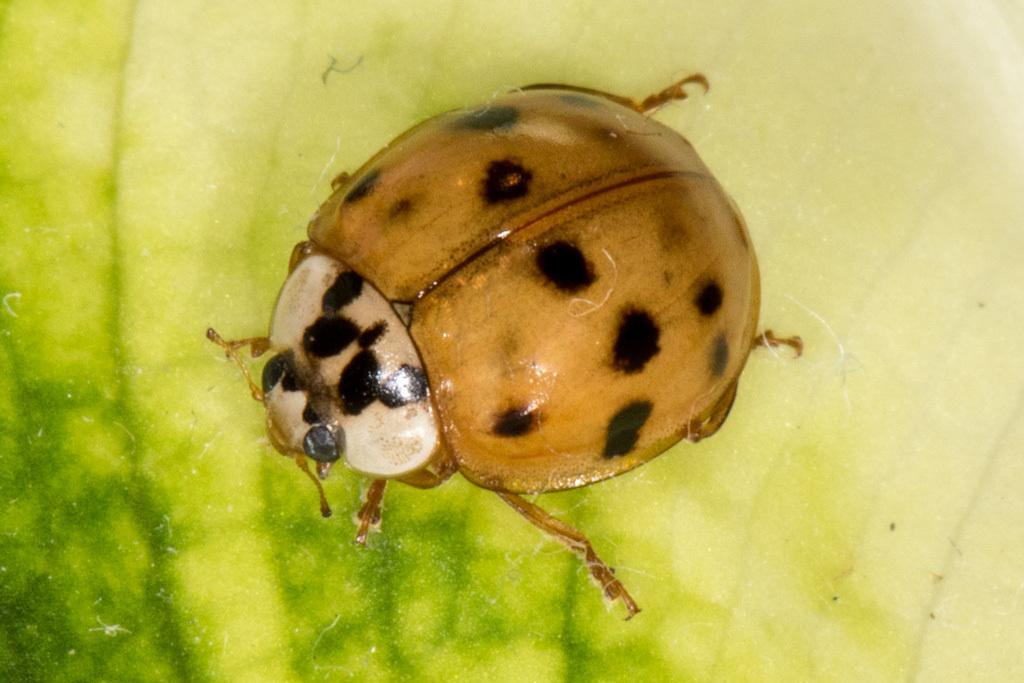ladybug: (205, 69, 811, 623)
